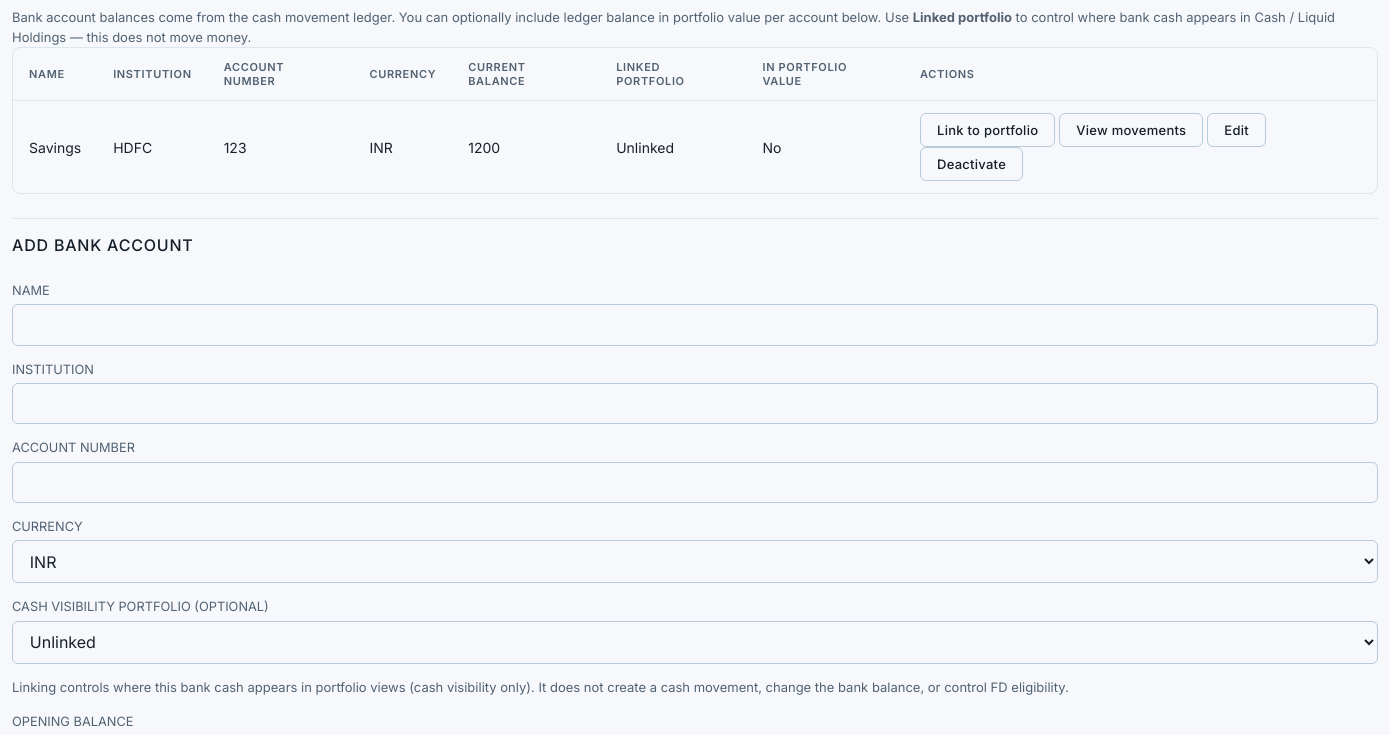
Test case: BankAccountManagement › shows ledger note and read-only balance when ledger exists
Expected: the text "optionally include ledger balance in portfolio value" is shown, [12,9,913,25]
Expected: the text "1200" is shown, [452,100,600,193]
Click the button "Edit" at (1237, 130), box [1207,113,1266,147]
(page scrolled)
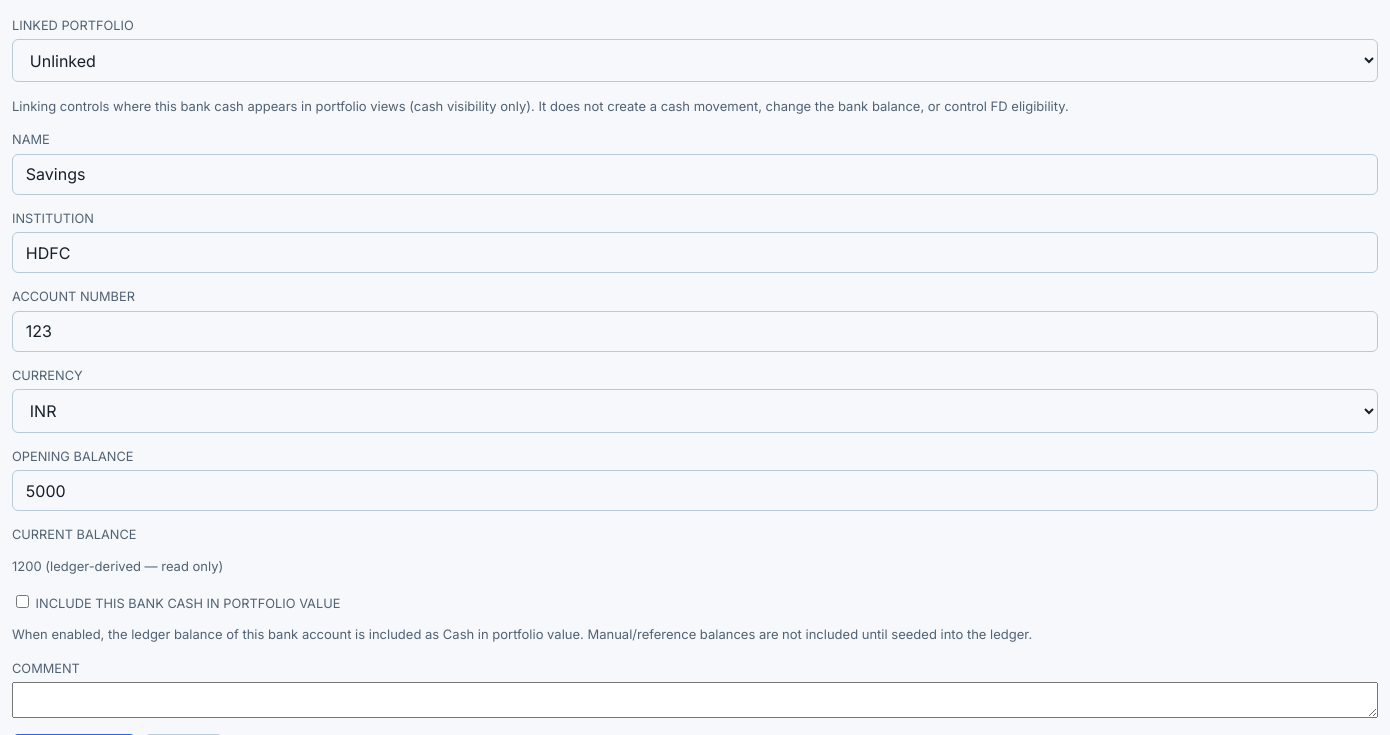
Now the text "1200 (ledger-derived — read only)" is shown, box [12,558,223,574]
Now the checkbox labelled "Include this bank cash in portfolio value" is shown, box [16,595,29,608]
Now the text "manual/reference balances are not included until seeded into the ledger" is shown, box [12,626,1032,642]
